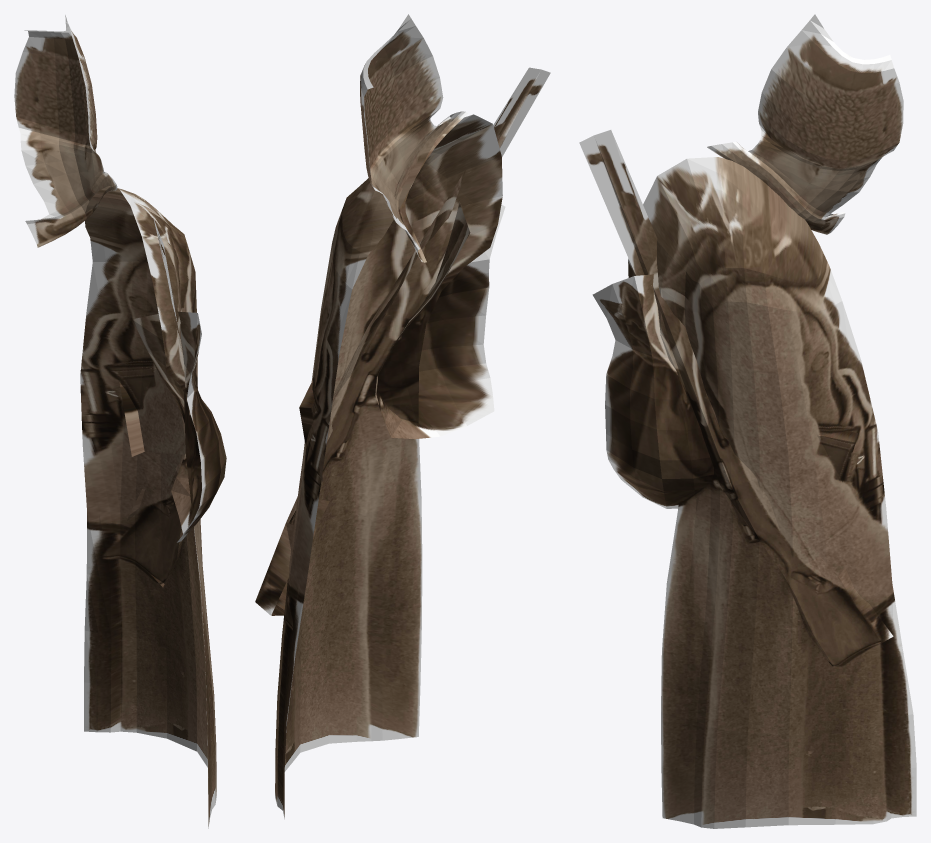
Rendered from Man_05.fbx.
3 renders of one model, left to right at view 1: azimuth 30°, elevation 25°; view 2: azimuth 150°, elevation 25°; view 3: azimuth 270°, elevation 25°, orthographic. The views are drawn at different scales.
Parts seen in each view (by area): view 1: Man_05; view 2: Man_05; view 3: Man_05.
Boxes of the visible parts, box(x1,y1,x2,y2) form: Man_05: box(14, 15, 226, 828); Man_05: box(255, 14, 550, 819); Man_05: box(579, 14, 916, 828).
Bounding box in the file's own units: 0.3813 × 1.88 × 0.7459.
1 material, 1 textured.
